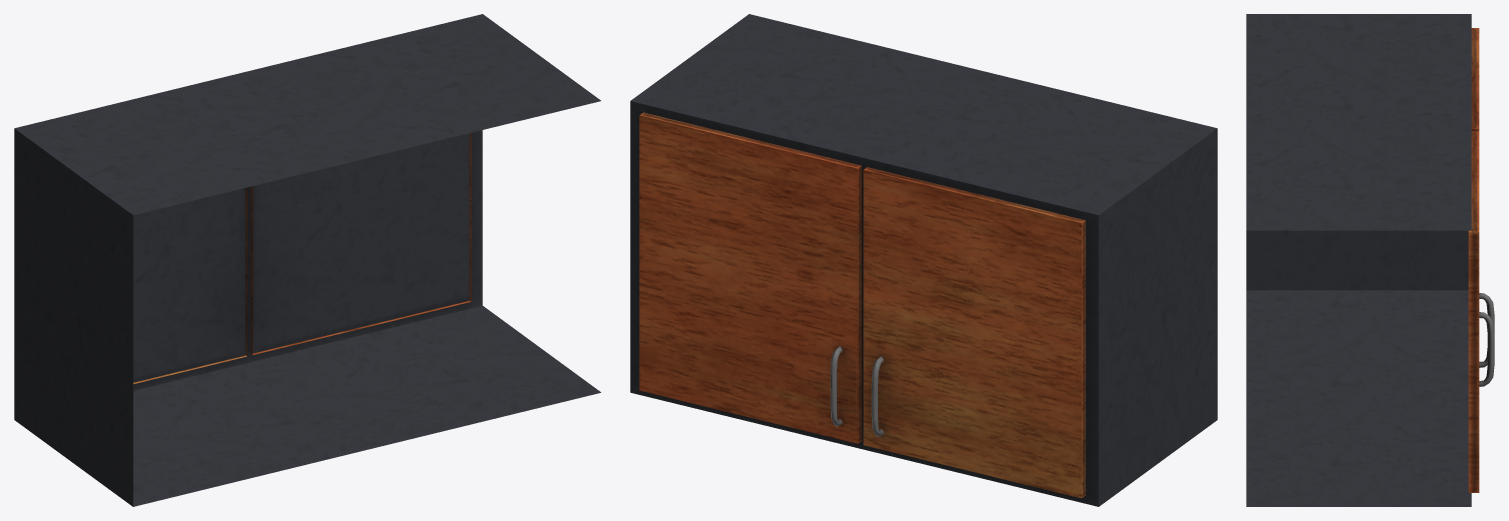
File: BreakroomCabinetLeft.fbx
3 views of the same model, side by side, from view 1: azimuth 30°, elevation 25°; view 2: azimuth 150°, elevation 25°; view 3: azimuth 270°, elevation 25° (orthographic). The views are drawn at different scales.
Visible parts, largest first — view 1: BreakroomCabinetLeft; view 2: BreakroomCabinetLeft; view 3: BreakroomCabinetLeft.
Boxes of the visible parts, left/top/right/bottom form: BreakroomCabinetLeft: left=14, top=14, right=600, bottom=506; BreakroomCabinetLeft: left=630, top=14, right=1217, bottom=506; BreakroomCabinetLeft: left=1246, top=14, right=1494, bottom=506.
Bounding box in the file's own units: 73.76 × 90.66 × 152.
